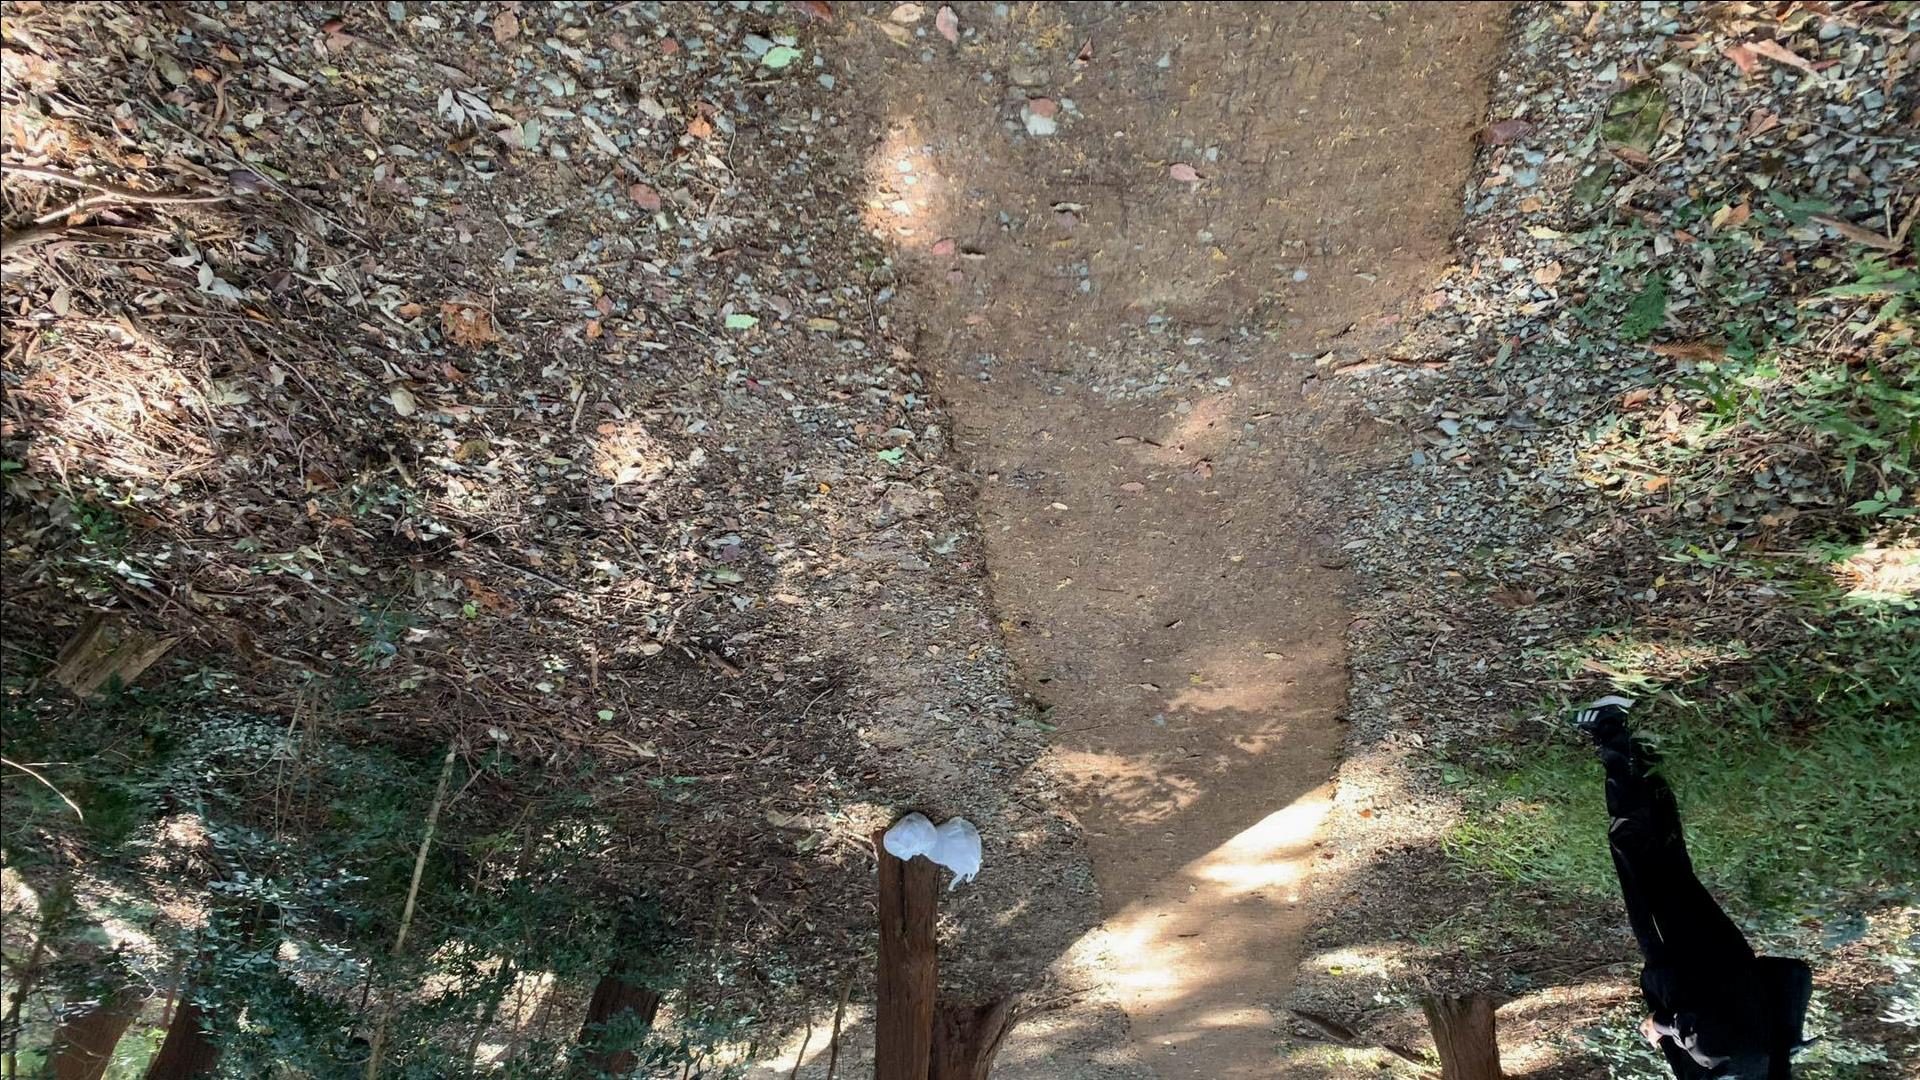white_bag: (916, 816, 989, 891), (881, 811, 942, 862)
